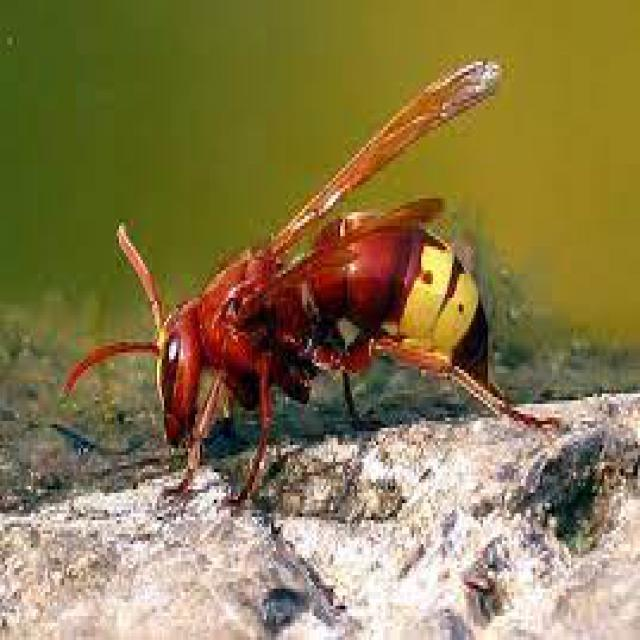Vespa Orientalis: (46, 34, 585, 543)
